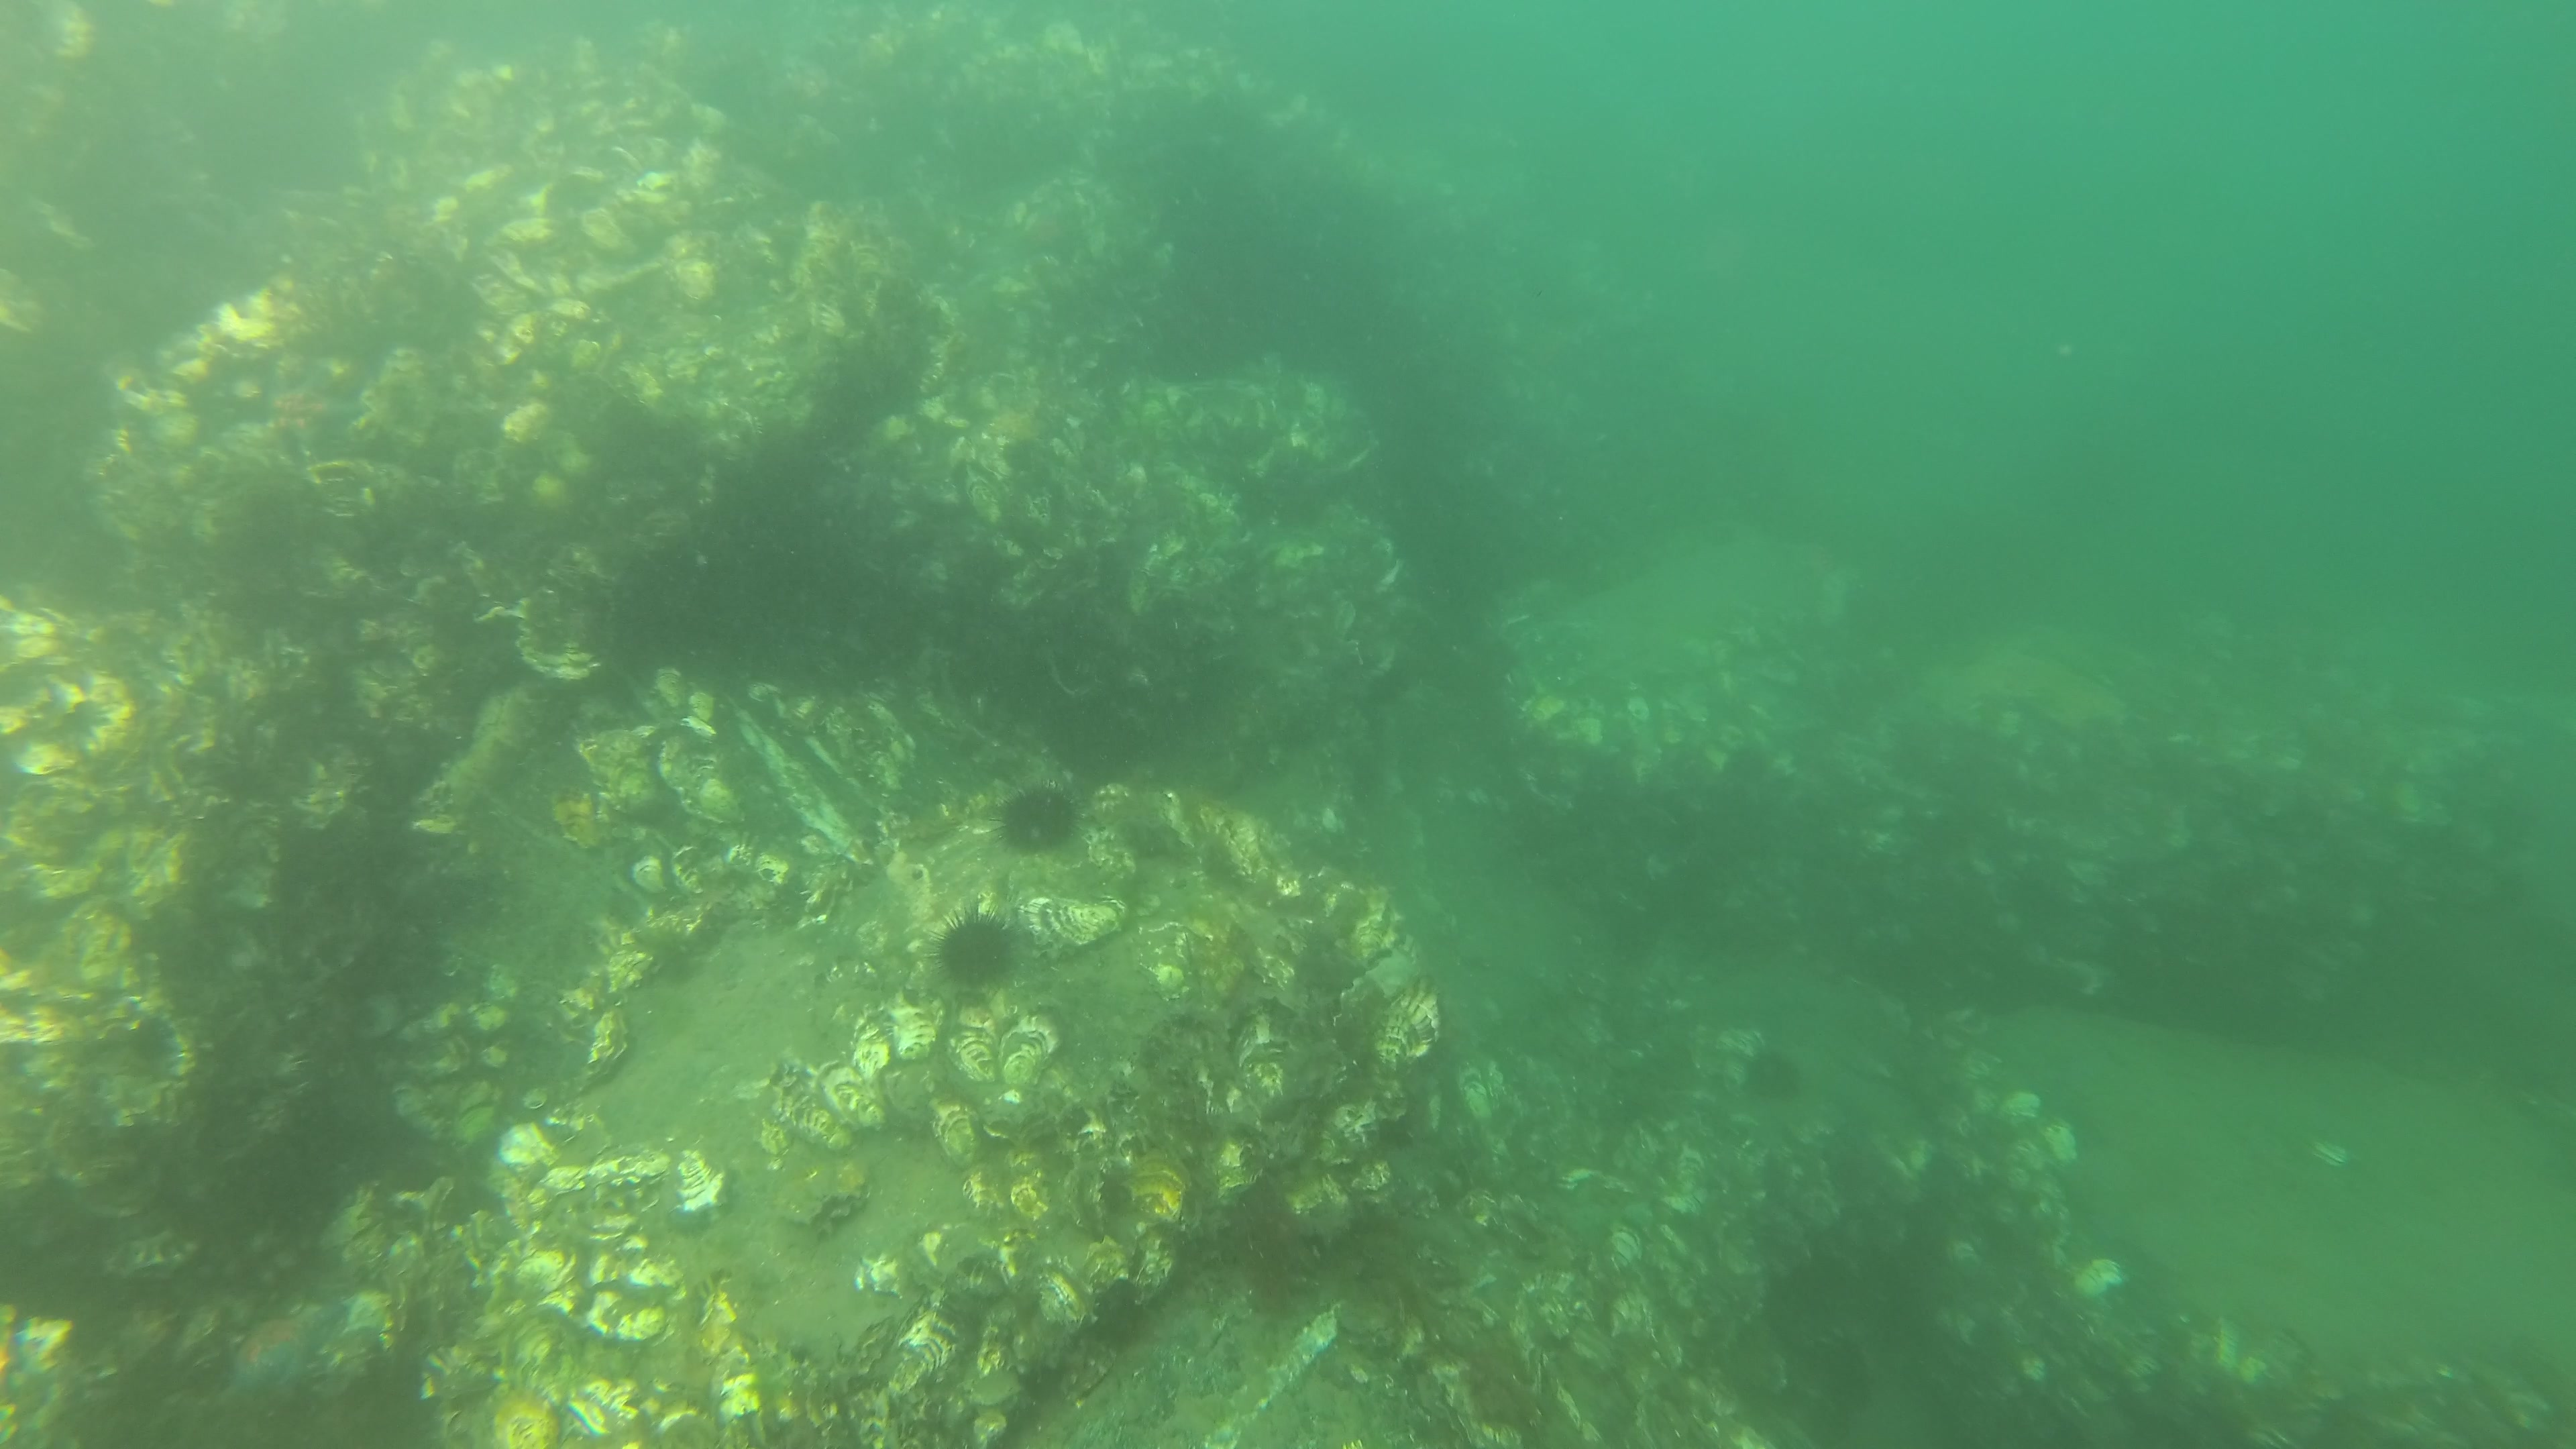echinus: (932, 904, 1023, 1005), (1000, 786, 1074, 858), (1741, 1049, 1798, 1106)
starfish: (226, 1318, 326, 1385), (262, 379, 364, 439), (1023, 209, 1081, 249)
